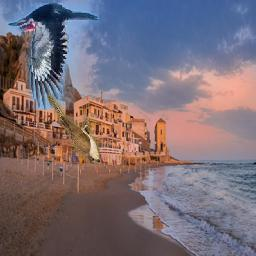Cuckoo: (48, 94, 101, 164)
Woodpecker: (7, 4, 99, 111)
